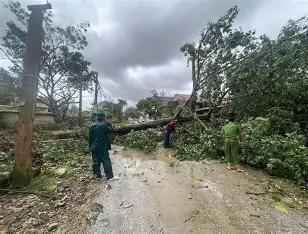ROAD_OBSTACLE: (48, 30, 303, 185)
